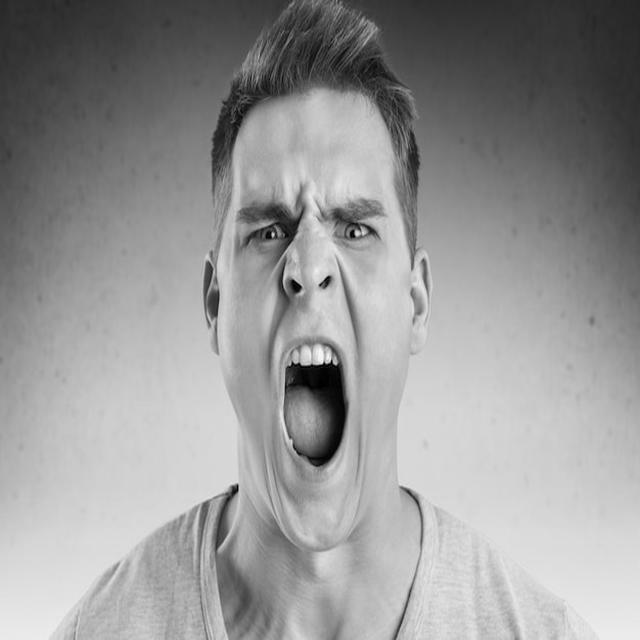Angry: (217, 92, 412, 550)
